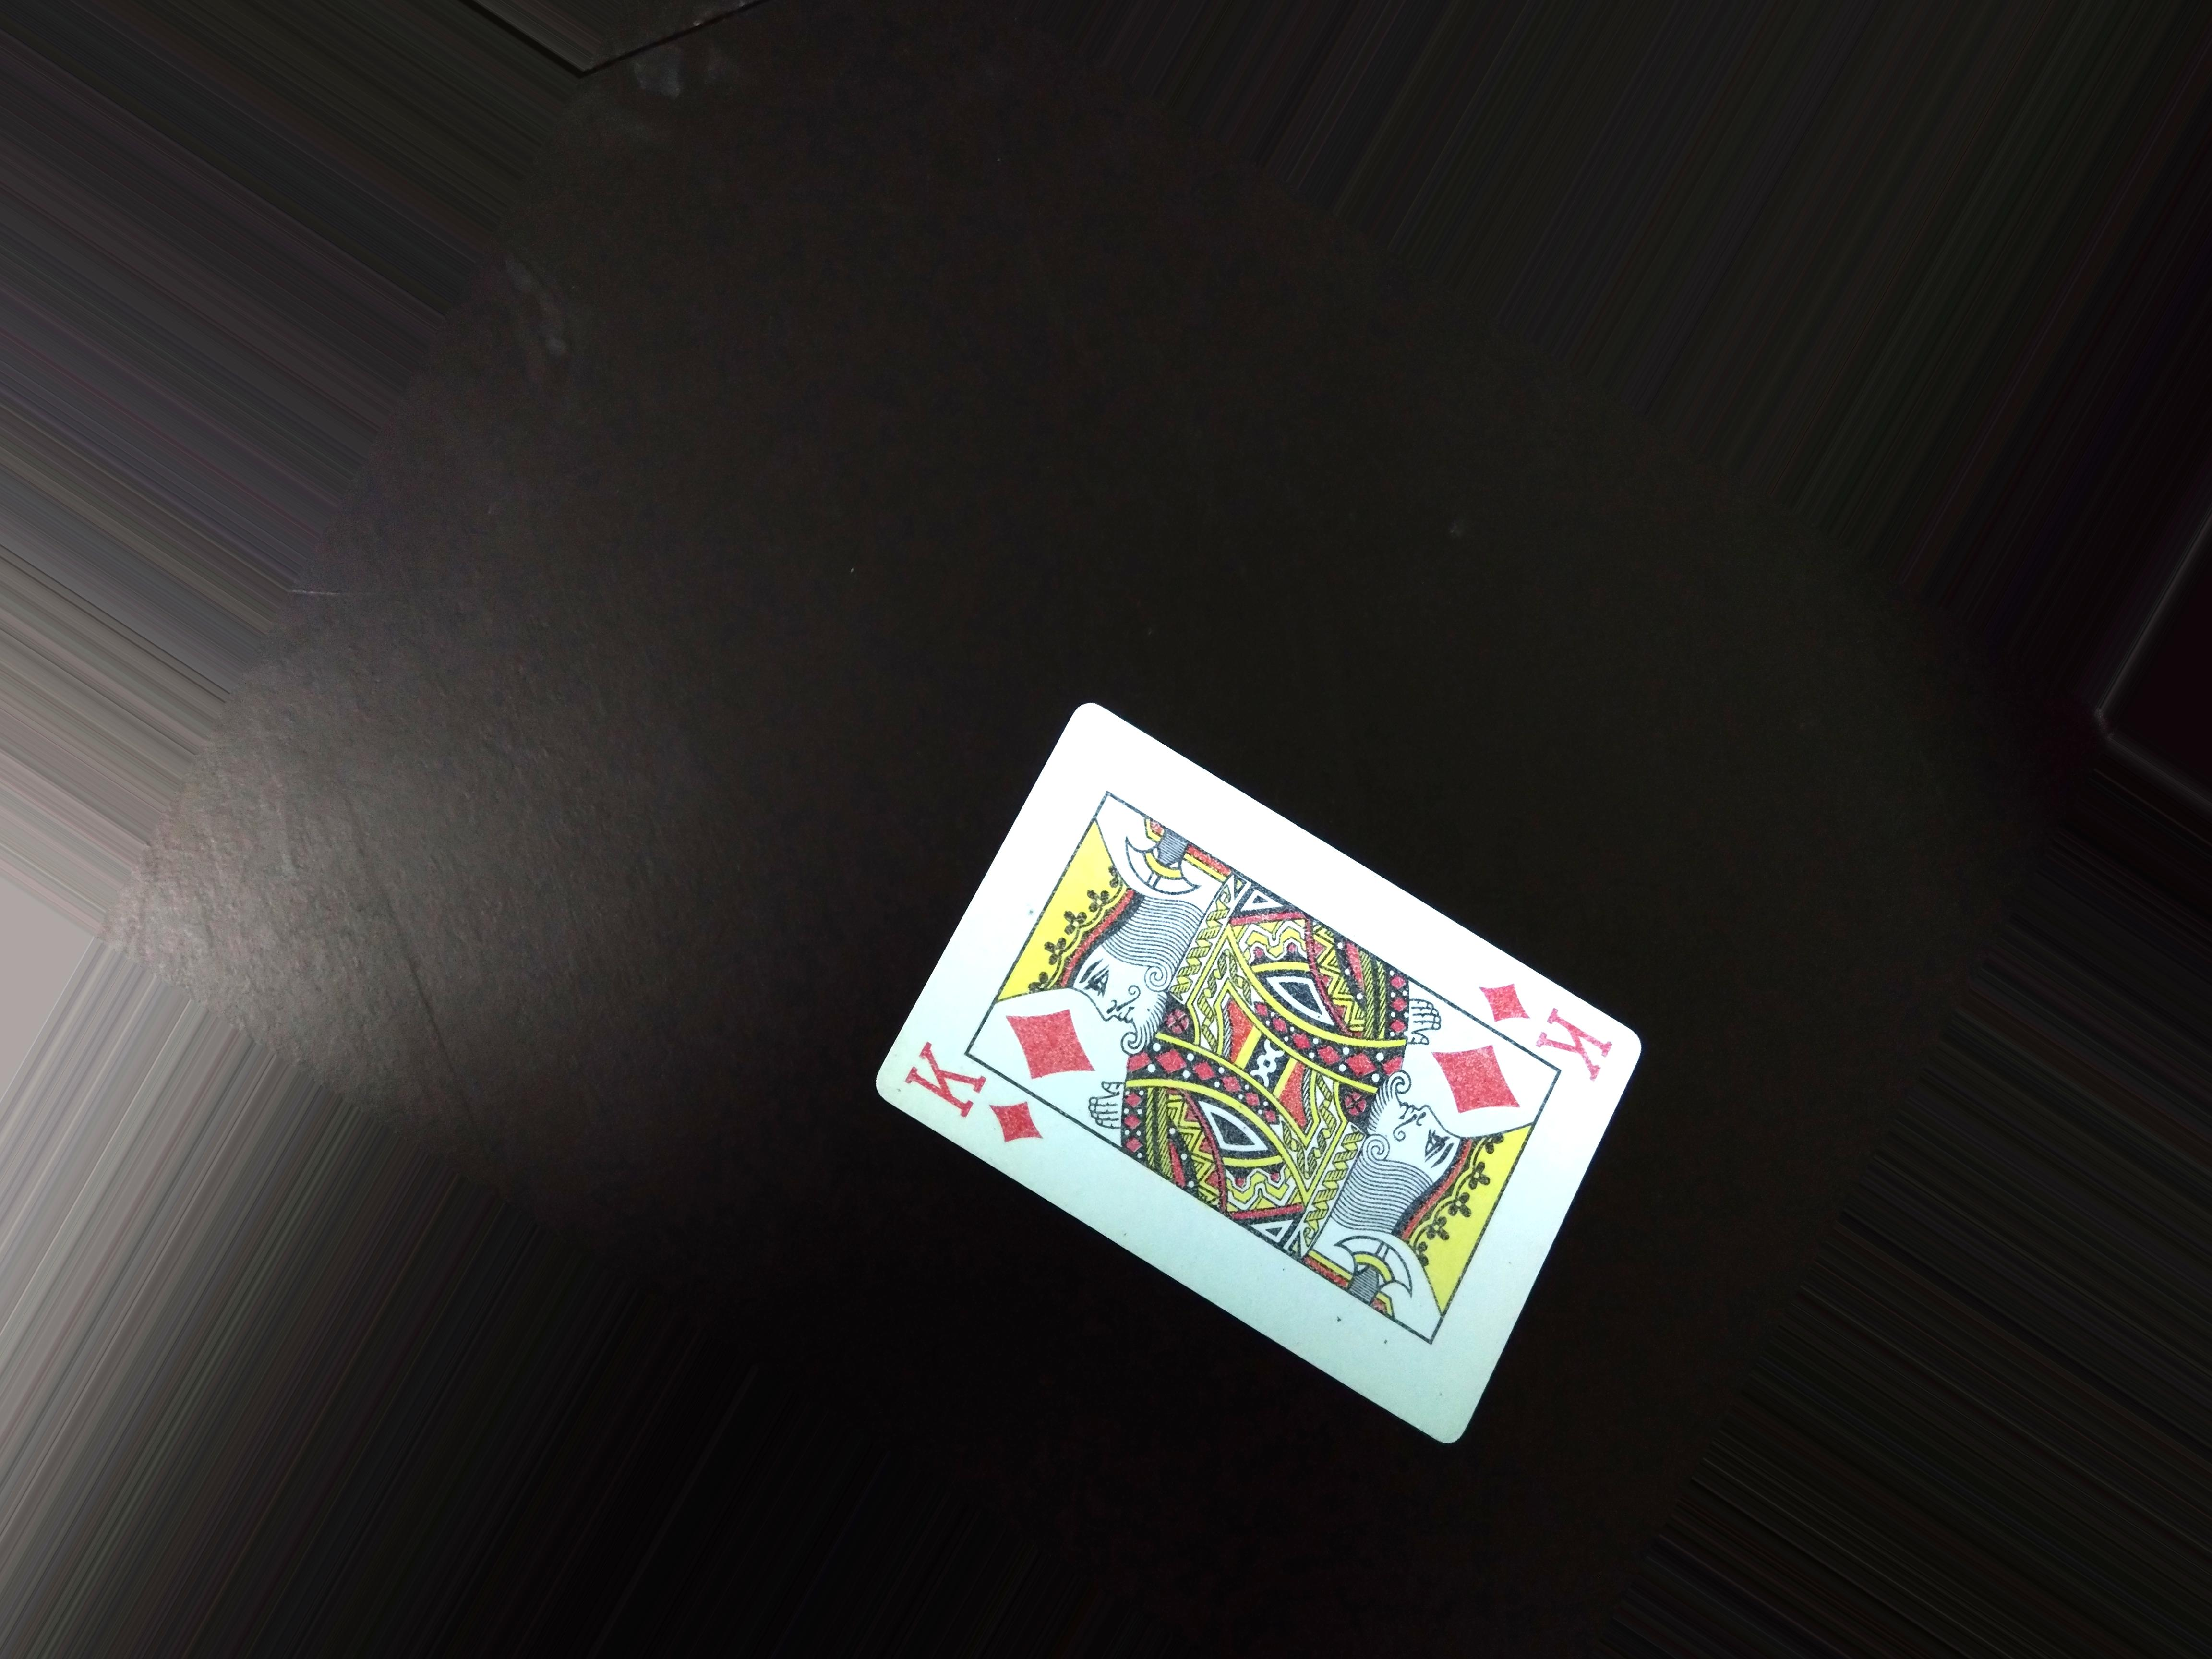KD: (1487, 951, 1629, 1077)
